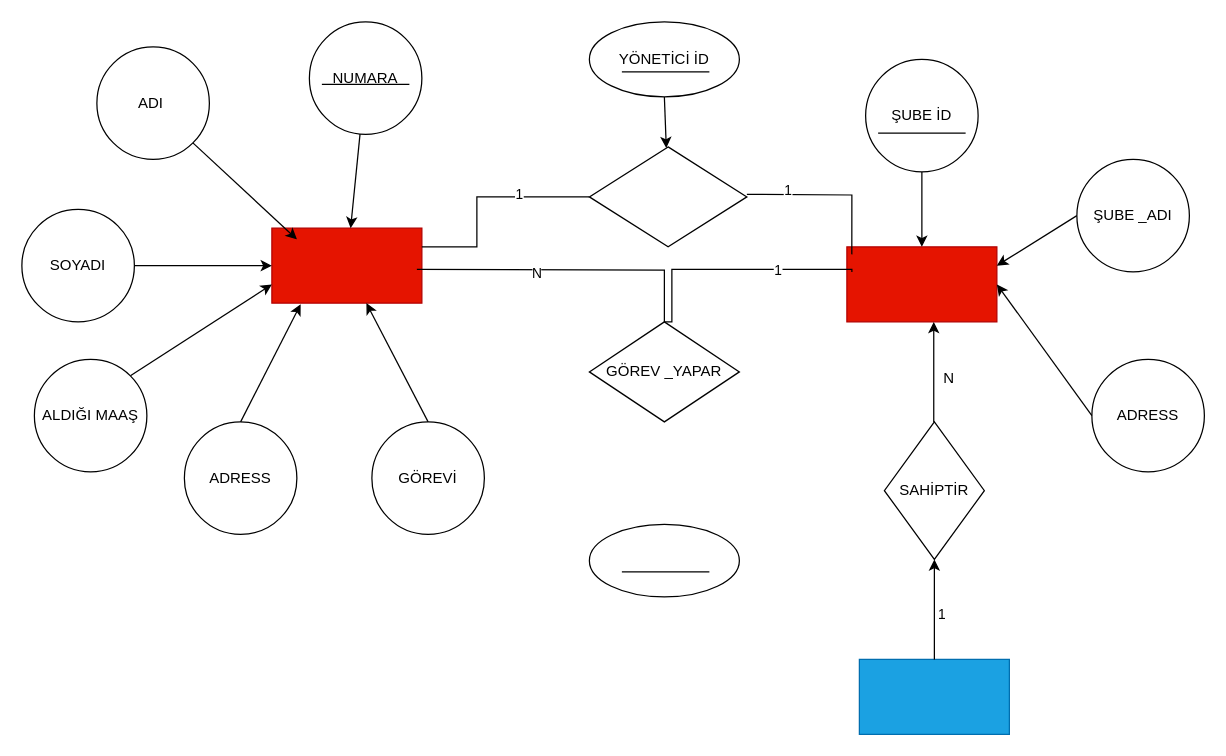
Image size: 1226x756. Some labels were removed from this diagram. The shapes that lost their labels are listed below. From the top down, each one's centre as x and y in pixels, then its label:
the point at 667,196: YÖNETİCİ/ YÖNETİR
the point at 346,265: ÇALIŞAN
the point at 921,284: ŞUBE
the point at 663,560: ÇALIŞAN İD
the point at 933,696: ŞİRKET
